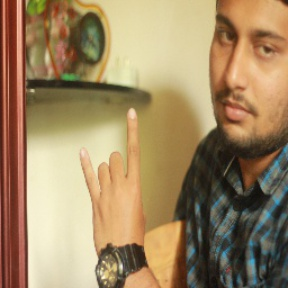V: (76, 105, 147, 254)
